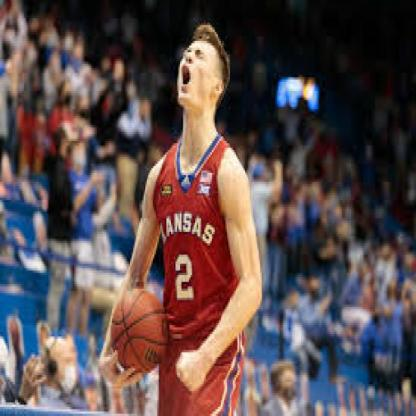basketball: (110, 288, 168, 378)
